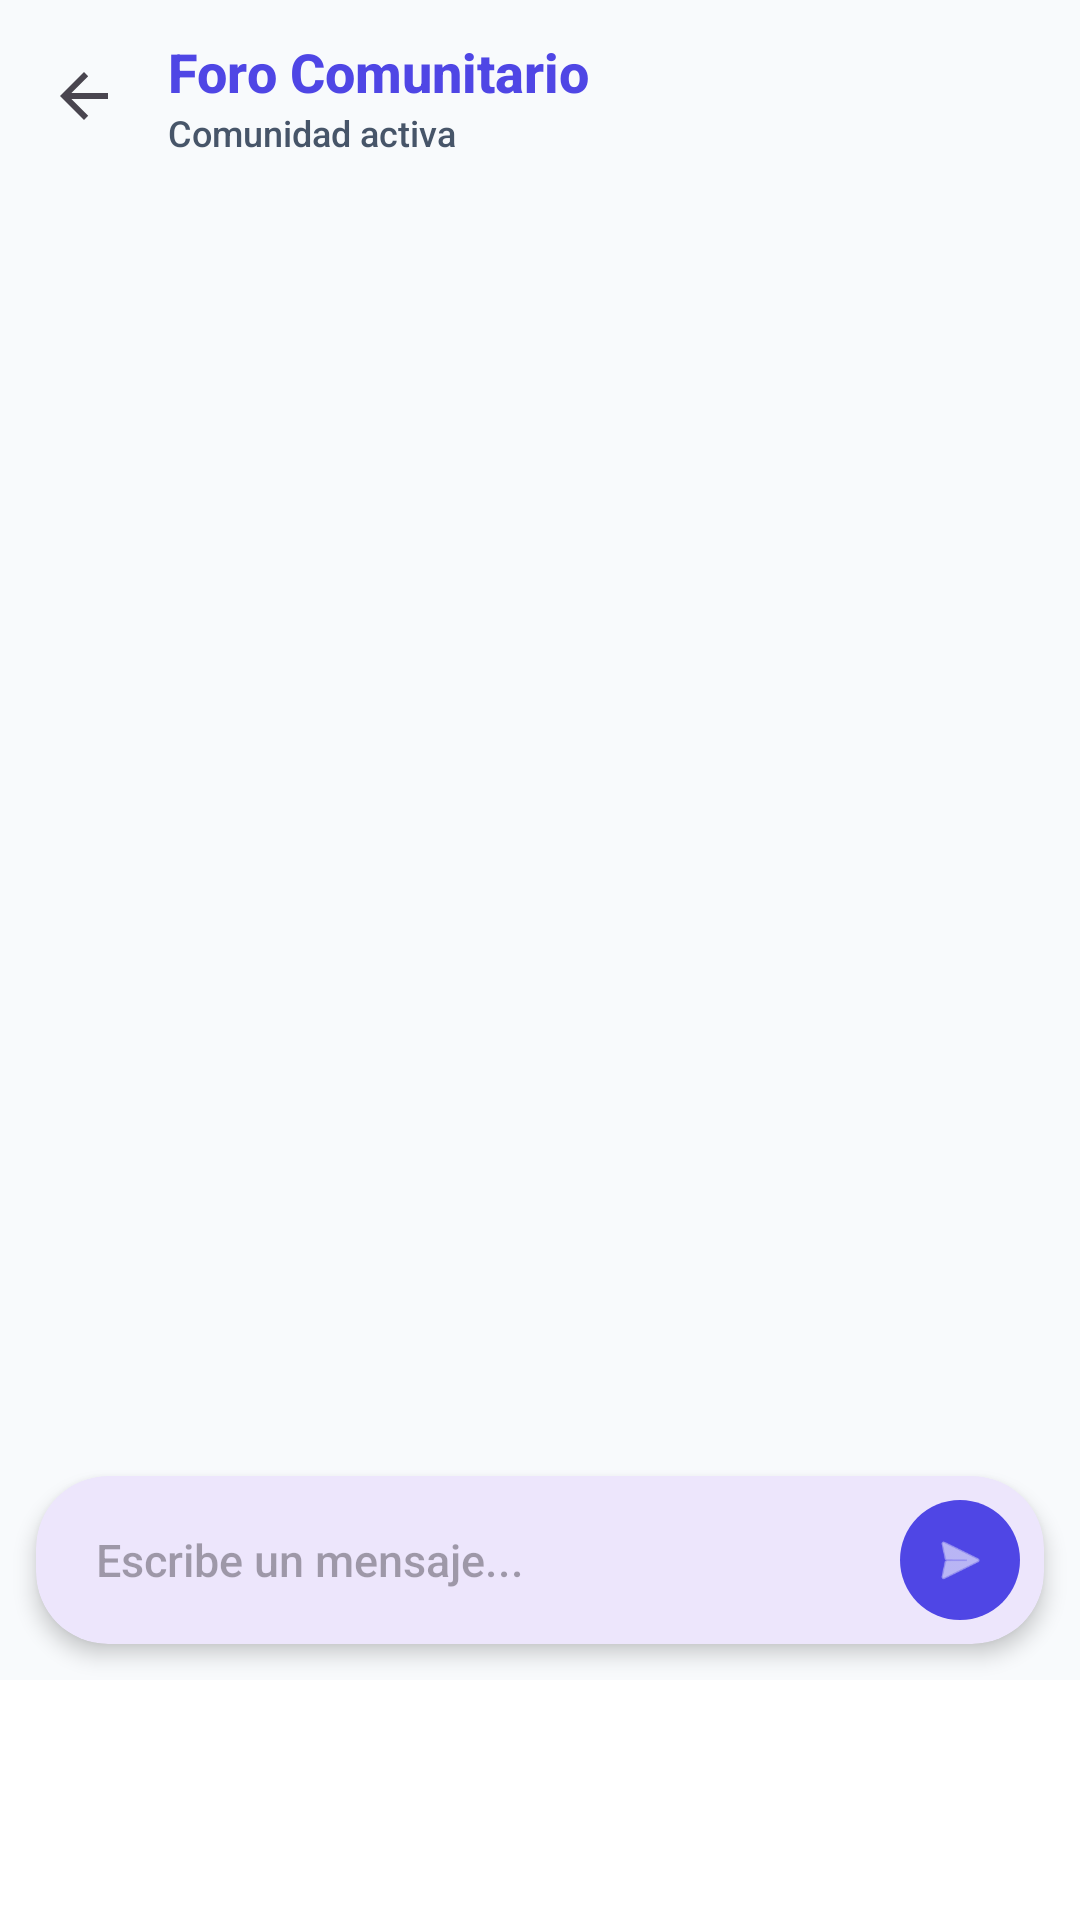

Screen size 1080×1920. Icon name, then its center in pixels as (x,y):
send: (960,1560)
